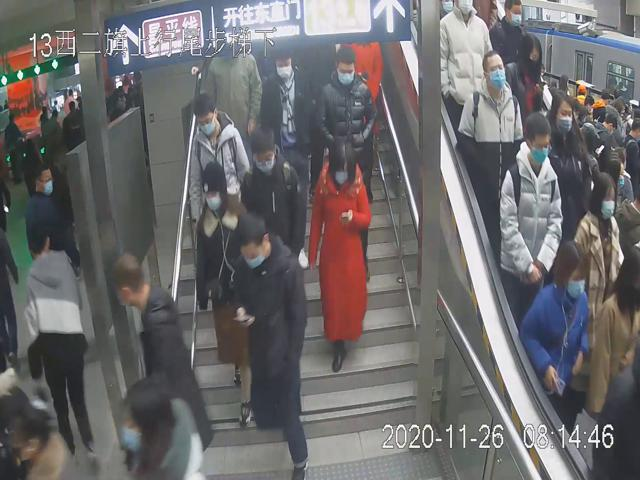person: (229, 210, 316, 480), (193, 160, 266, 431), (308, 138, 372, 374), (498, 107, 561, 310), (458, 48, 526, 236), (519, 239, 590, 411), (258, 44, 310, 272), (312, 44, 376, 226), (241, 128, 308, 285), (189, 92, 251, 249)
